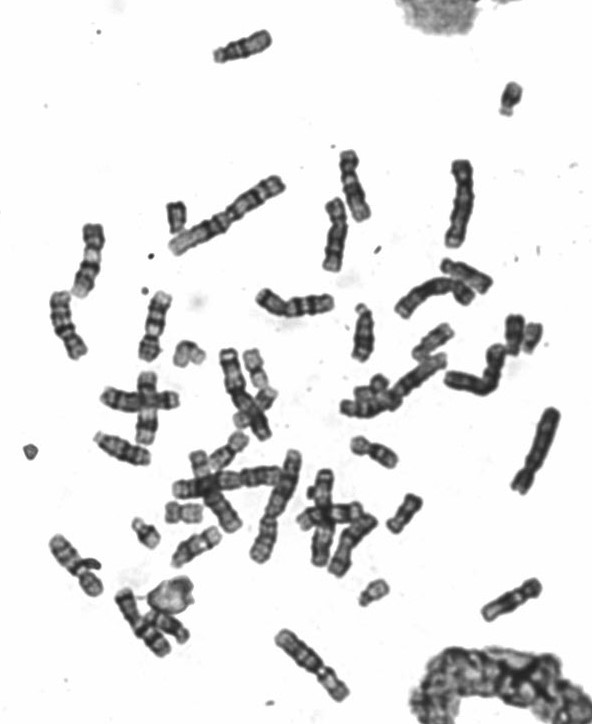chromosomes: (158, 160, 301, 268), (333, 349, 454, 425), (267, 623, 357, 715), (503, 387, 571, 506), (243, 445, 307, 569), (217, 342, 277, 445), (163, 458, 288, 507), (183, 443, 247, 538), (112, 574, 176, 665), (469, 566, 549, 631), (433, 152, 486, 250), (322, 508, 386, 586), (43, 525, 105, 604), (441, 336, 507, 405), (334, 141, 385, 230), (390, 276, 479, 326), (310, 191, 360, 279), (67, 215, 114, 302), (39, 285, 89, 366), (488, 71, 549, 136), (247, 282, 336, 326), (303, 460, 337, 571), (201, 21, 277, 70), (132, 285, 177, 365), (88, 424, 156, 475), (341, 427, 405, 478), (163, 524, 227, 574), (128, 367, 166, 451), (379, 487, 432, 546), (94, 383, 185, 417), (292, 492, 370, 531), (202, 424, 258, 478), (142, 600, 200, 650), (437, 251, 499, 297), (226, 385, 282, 433), (410, 317, 456, 362), (162, 184, 200, 238), (348, 300, 378, 367), (156, 496, 210, 533), (238, 347, 276, 394), (518, 313, 550, 360), (171, 335, 210, 373), (354, 575, 396, 610), (502, 303, 525, 366), (353, 368, 392, 405), (127, 511, 159, 556)
